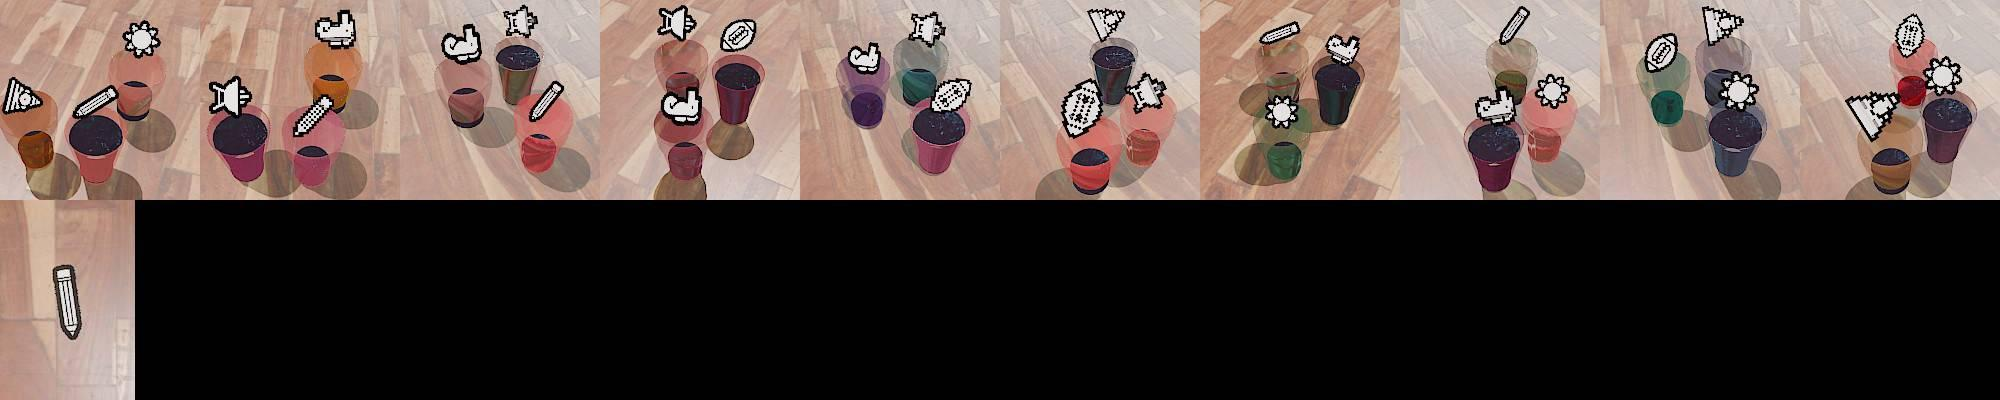icon: (1844, 90, 1899, 143), (1061, 78, 1105, 139), (51, 262, 83, 341), (208, 74, 253, 117), (293, 93, 337, 138), (1713, 71, 1761, 111), (314, 9, 357, 51), (440, 22, 483, 64), (1473, 84, 1518, 125), (1702, 5, 1744, 46), (659, 85, 703, 125), (1922, 56, 1963, 97), (1, 76, 45, 115), (1128, 71, 1167, 112), (931, 76, 973, 115), (528, 79, 564, 124), (73, 84, 119, 118), (121, 20, 161, 59), (657, 5, 698, 42), (1643, 33, 1679, 74), (908, 10, 946, 47), (1497, 5, 1531, 47), (1534, 73, 1571, 110), (719, 18, 758, 54), (1087, 8, 1126, 42), (1895, 13, 1925, 59), (1263, 93, 1300, 129), (503, 4, 538, 38), (1258, 19, 1301, 46), (1324, 33, 1360, 65), (847, 42, 881, 74)
